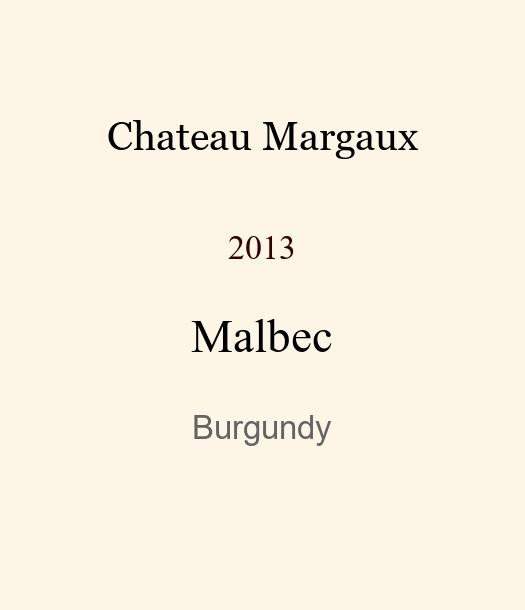brand: (107, 113, 418, 152)
region: (192, 409, 332, 440)
variety: (191, 310, 333, 343)
vintage: (228, 228, 296, 251)
